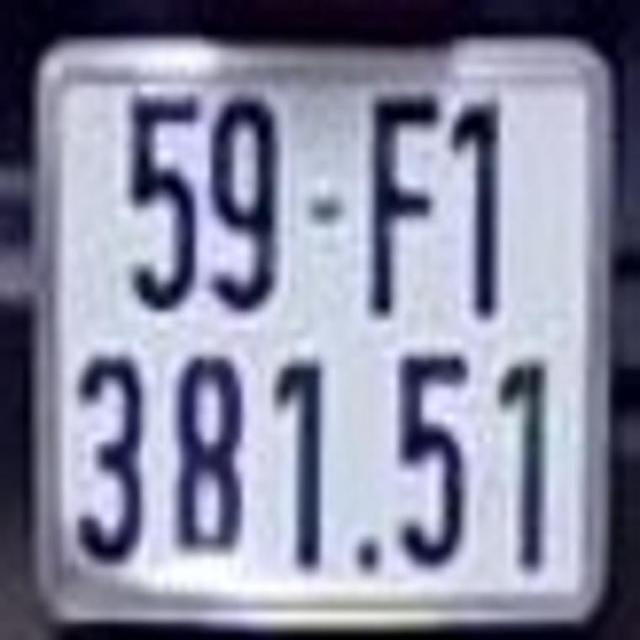1: (454, 102, 506, 320), (280, 363, 332, 575), (502, 356, 548, 567)
3: (74, 360, 145, 568)
5: (397, 358, 475, 564), (124, 93, 198, 304)
8: (180, 358, 250, 572)
9: (211, 95, 281, 308)
F: (362, 96, 440, 314)
